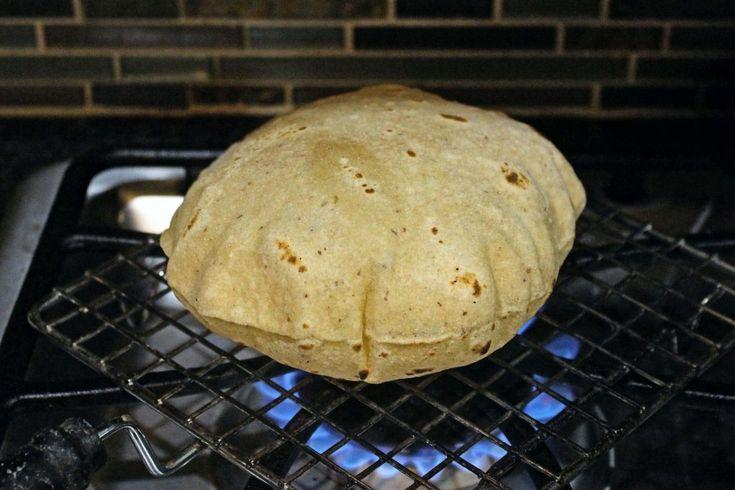roti phulka: (159, 82, 589, 383)
